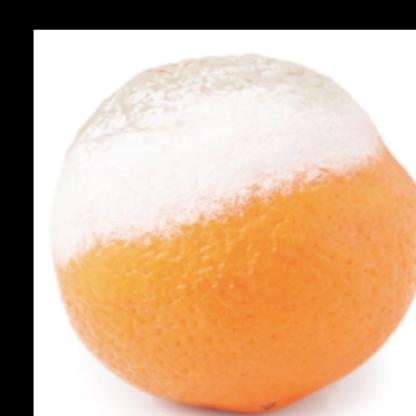rotten: (53, 54, 416, 416)
